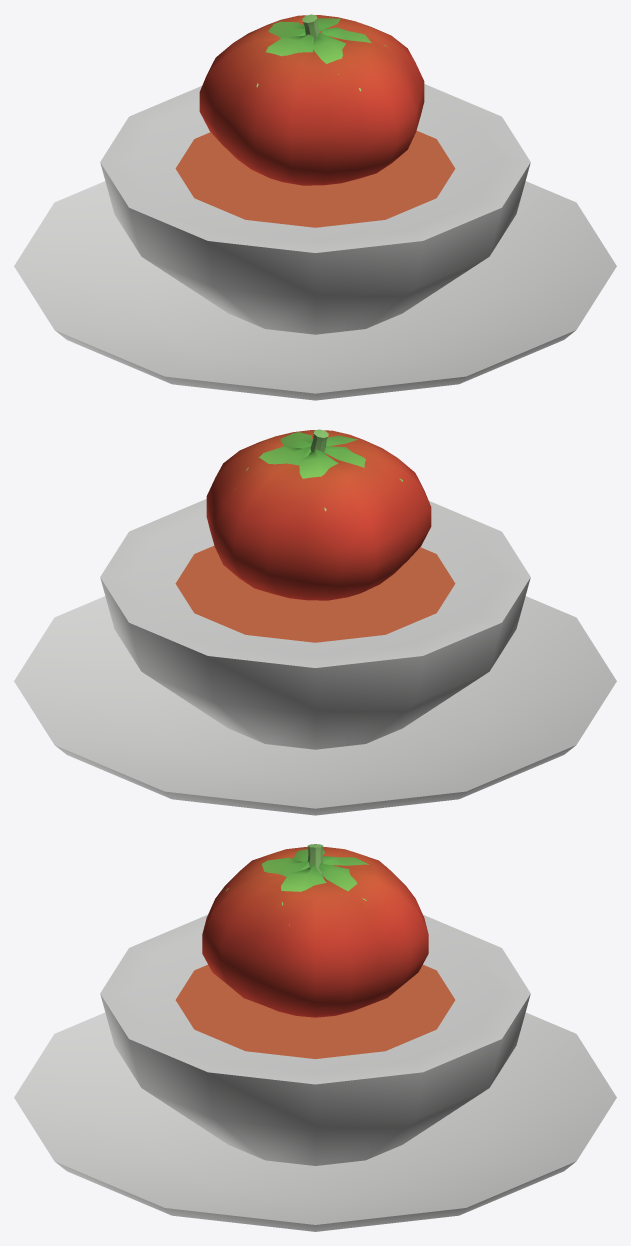
File: kr_icon_soup_tomato.glb
The picture shows the model from 3 angles, top to bottom: view 1: azimuth 30°, elevation 25°; view 2: azimuth 150°, elevation 25°; view 3: azimuth 270°, elevation 25°; orthographic projection.
Parts seen in each view (by area): view 1: vc_m0_r2, vc_m0_r4; view 2: vc_m0_r2, vc_m0_r4; view 3: vc_m0_r2, vc_m0_r4.
Boxes of the visible parts, x1,y1,x2,y2 form: vc_m0_r2: [14, 15, 616, 400]; vc_m0_r4: [256, 18, 386, 91]; vc_m0_r2: [14, 430, 616, 815]; vc_m0_r4: [246, 432, 402, 511]; vc_m0_r2: [14, 847, 616, 1231]; vc_m0_r4: [226, 849, 386, 925].
Size of the model in its own units: 0.42 by 0.2325 by 0.42.
